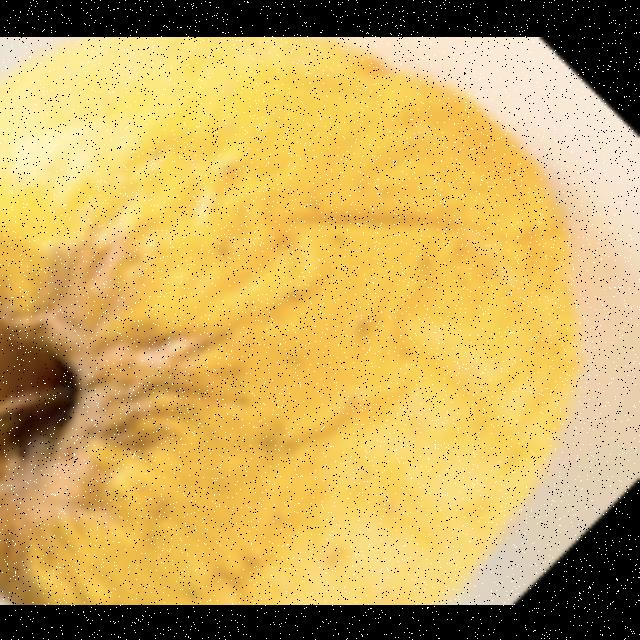Apel Tidak Segar: (0, 36, 614, 604)
